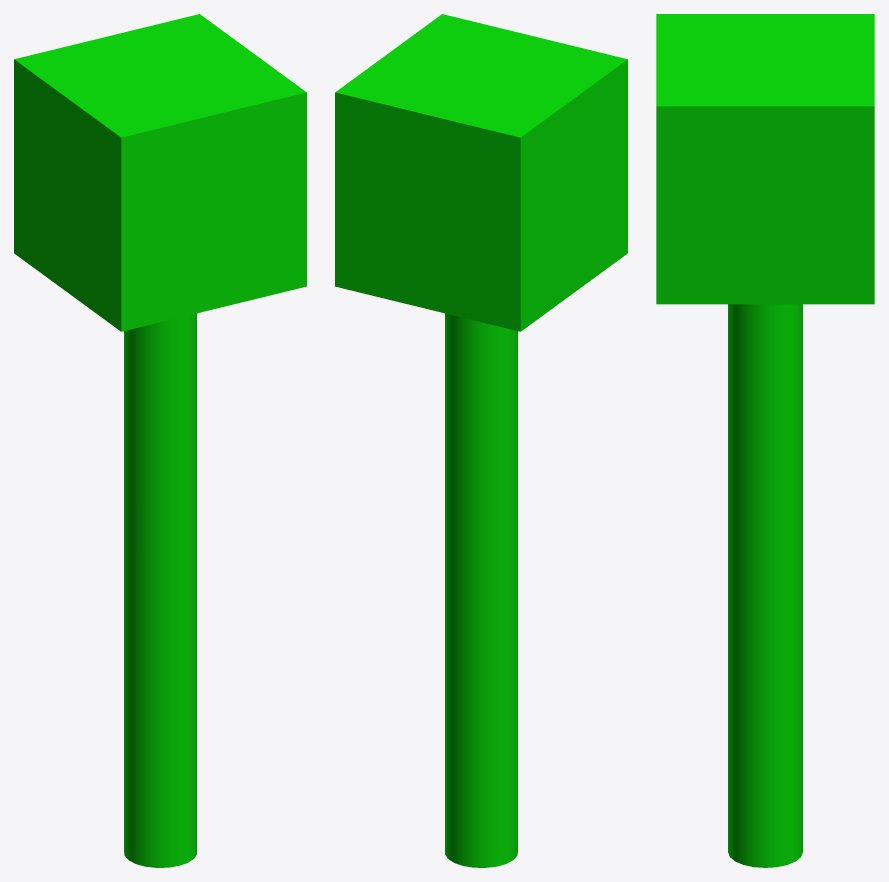
File: Y_Pinch.fbx
3 renders of one model, left to right at view 1: azimuth 30°, elevation 25°; view 2: azimuth 150°, elevation 25°; view 3: azimuth 270°, elevation 25°, orthographic.
Visible parts, largest first — view 1: pCube2; view 2: pCube2; view 3: pCube2.
Boxes of the visible parts, x1,y1,x2,y2 form: pCube2: (14, 14, 306, 867); pCube2: (335, 14, 627, 867); pCube2: (656, 14, 874, 867).
Bounding box in the file's own units: 1 × 4 × 1.
